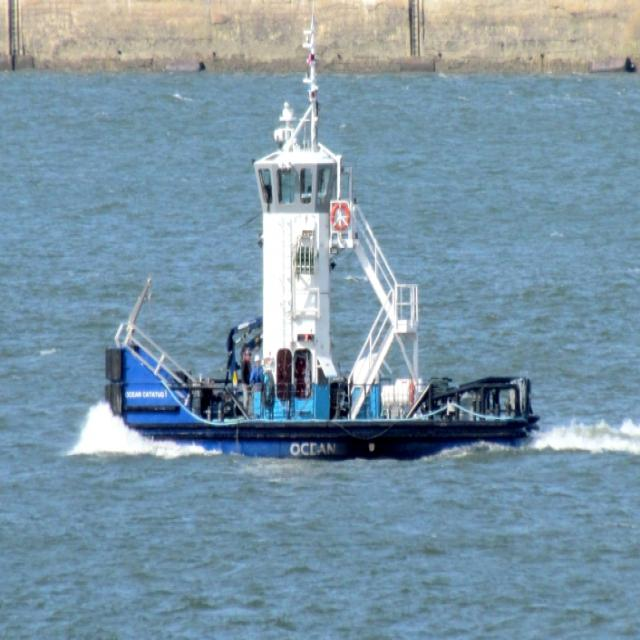tugboat: (100, 98, 547, 468)
